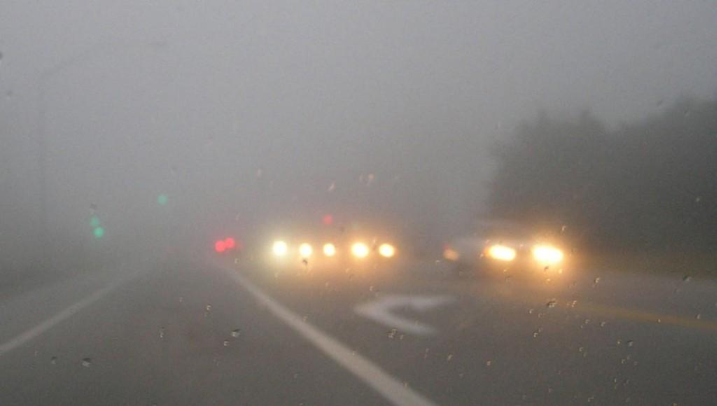car: (211, 233, 241, 258)
kite: (214, 236, 237, 252)
stop sign: (213, 236, 237, 252)
traffic light: (77, 203, 122, 254), (83, 210, 112, 249), (215, 233, 245, 260), (87, 206, 105, 241), (213, 236, 238, 253), (87, 202, 99, 233), (93, 221, 106, 242), (156, 193, 169, 207), (321, 213, 335, 225)
